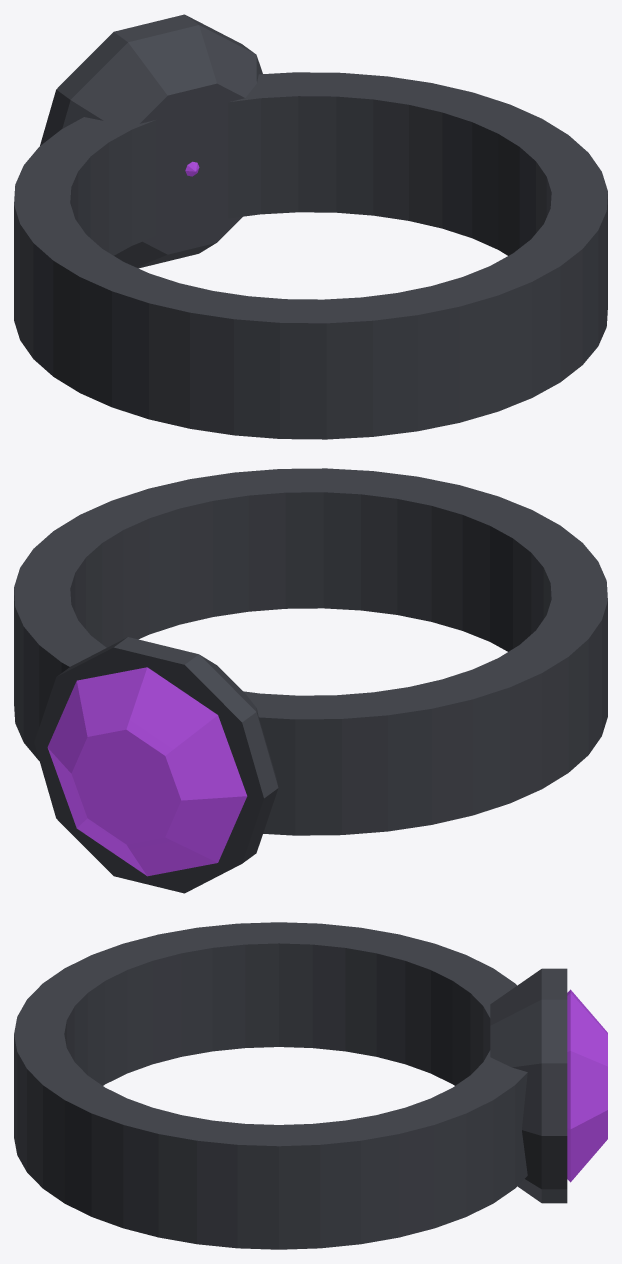
Rendered from ring_void.glb.
3 renders of one model, top to bottom at view 1: azimuth 30°, elevation 25°; view 2: azimuth 150°, elevation 25°; view 3: azimuth 270°, elevation 25°, orthographic. The views are drawn at different scales.
Visible parts, largest first — view 1: Ring_Void_Darksteel; view 2: Ring_Void_Darksteel, Ring_Void_Gem_entropic; view 3: Ring_Void_Darksteel, Ring_Void_Gem_entropic.
Part boxes in pixels (x1,y1,x2,y2): Ring_Void_Darksteel: (14, 14, 607, 439); Ring_Void_Darksteel: (14, 468, 607, 893); Ring_Void_Gem_entropic: (47, 667, 247, 876); Ring_Void_Darksteel: (14, 922, 567, 1249); Ring_Void_Gem_entropic: (567, 989, 607, 1182).
Size of the model in its own units: 0.0232 by 0.00984 by 0.026.
